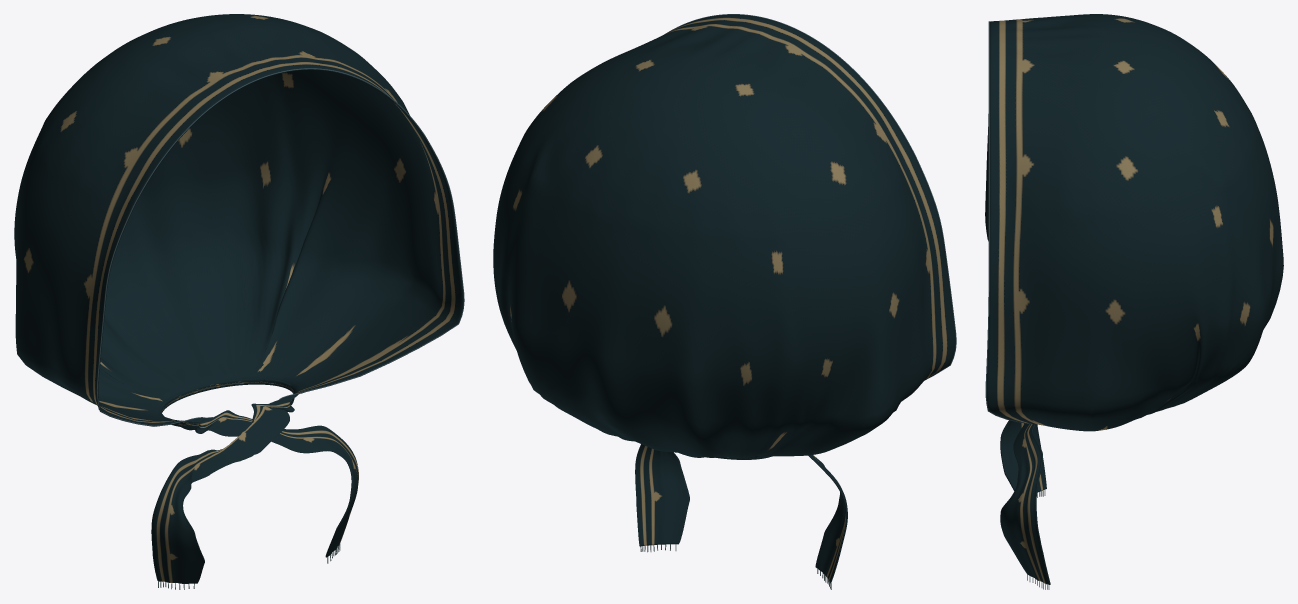
Rendered from Feminine-open-pashmina245-headgear.glb.
The picture shows the model from 3 angles, left to right: view 1: azimuth 30°, elevation 25°; view 2: azimuth 150°, elevation 25°; view 3: azimuth 270°, elevation 25°; orthographic projection. The views are drawn at different scales.
Parts seen in each view (by area): view 1: 226 headgear / Headwear / continuous woven pashmina239, 226 headgear / Headwear / face edge239; view 2: 226 headgear / Headwear / continuous woven pashmina239, 226 headgear / Headwear / face edge239; view 3: 226 headgear / Headwear / continuous woven pashmina239, 226 headgear / Headwear / face edge239.
Part boxes in pixels (left/top/right/bottom): 226 headgear / Headwear / continuous woven pashmina239: left=14, top=14, right=463, bottom=583; 226 headgear / Headwear / face edge239: left=96, top=68, right=464, bottom=426; 226 headgear / Headwear / continuous woven pashmina239: left=493, top=14, right=955, bottom=583; 226 headgear / Headwear / face edge239: left=664, top=14, right=956, bottom=379; 226 headgear / Headwear / continuous woven pashmina239: left=985, top=14, right=1283, bottom=584; 226 headgear / Headwear / face edge239: left=985, top=21, right=1031, bottom=423.
Bounding box in the file's own units: 1.02 × 1.35 × 0.7116.
3 materials, 1 textured.
